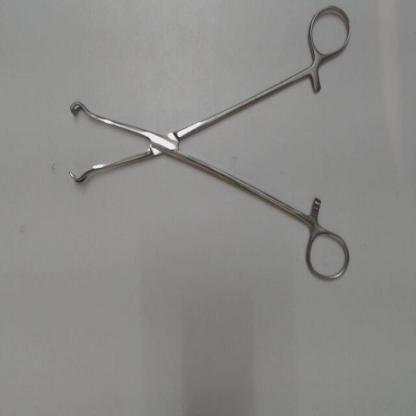8 Babcock Tissue Forceps: (64, 2, 357, 289)
